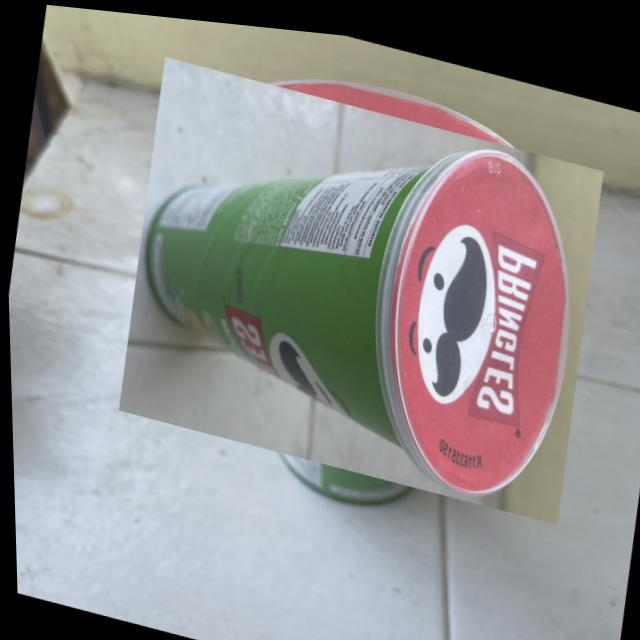a pringles: (123, 33, 595, 533)
